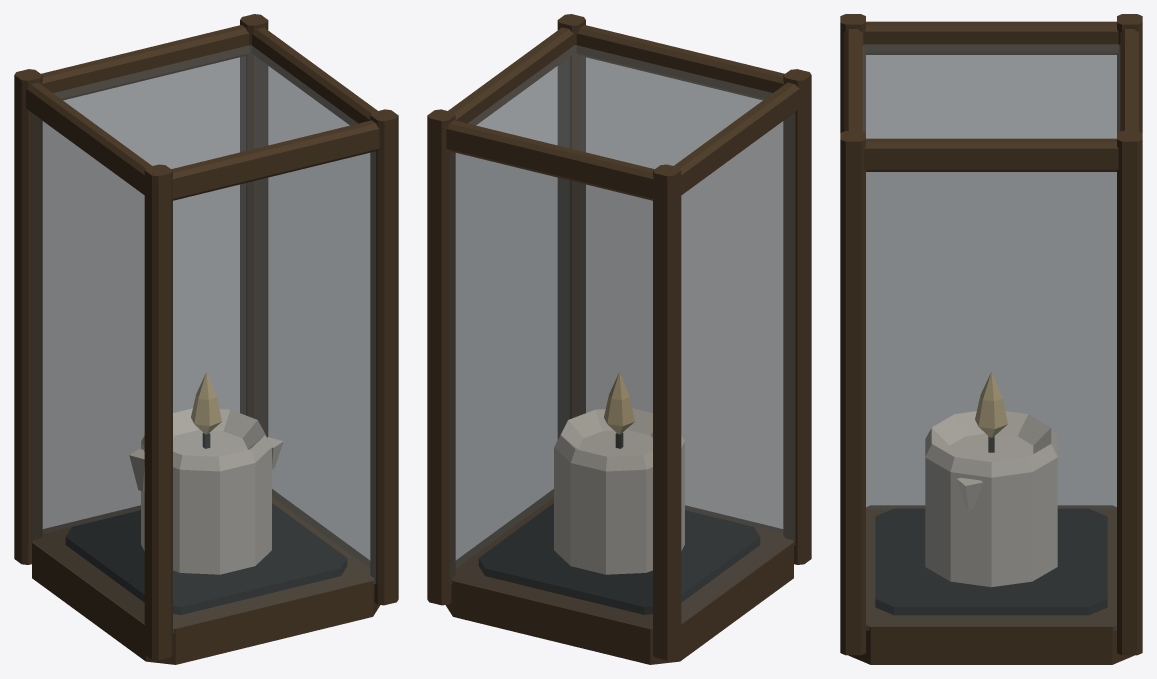
The model's file is table-candle-lantern-a7b5af.glb.
3 renders of one model, left to right at view 1: azimuth 30°, elevation 25°; view 2: azimuth 150°, elevation 25°; view 3: azimuth 270°, elevation 25°, orthographic. The views are drawn at different scales.
Parts seen in each view (by area): view 1: glazing, table-candle-lantern, candle, flame; view 2: glazing, table-candle-lantern, candle, flame; view 3: glazing, table-candle-lantern, candle, flame.
Part boxes in pixels (box(x1,y1,x2,y2)): glazing: box(31, 45, 375, 632); table-candle-lantern: box(14, 14, 398, 664); candle: box(129, 408, 283, 574); flame: box(191, 372, 221, 433); glazing: box(450, 45, 794, 632); table-candle-lantern: box(427, 14, 811, 664); candle: box(554, 408, 684, 574); flame: box(604, 372, 634, 433); glazing: box(863, 44, 1119, 630); table-candle-lantern: box(840, 14, 1142, 664); candle: box(925, 411, 1057, 587); flame: box(975, 372, 1007, 437).
Size of the model in its own units: 0.13 by 0.2499 by 0.13.
